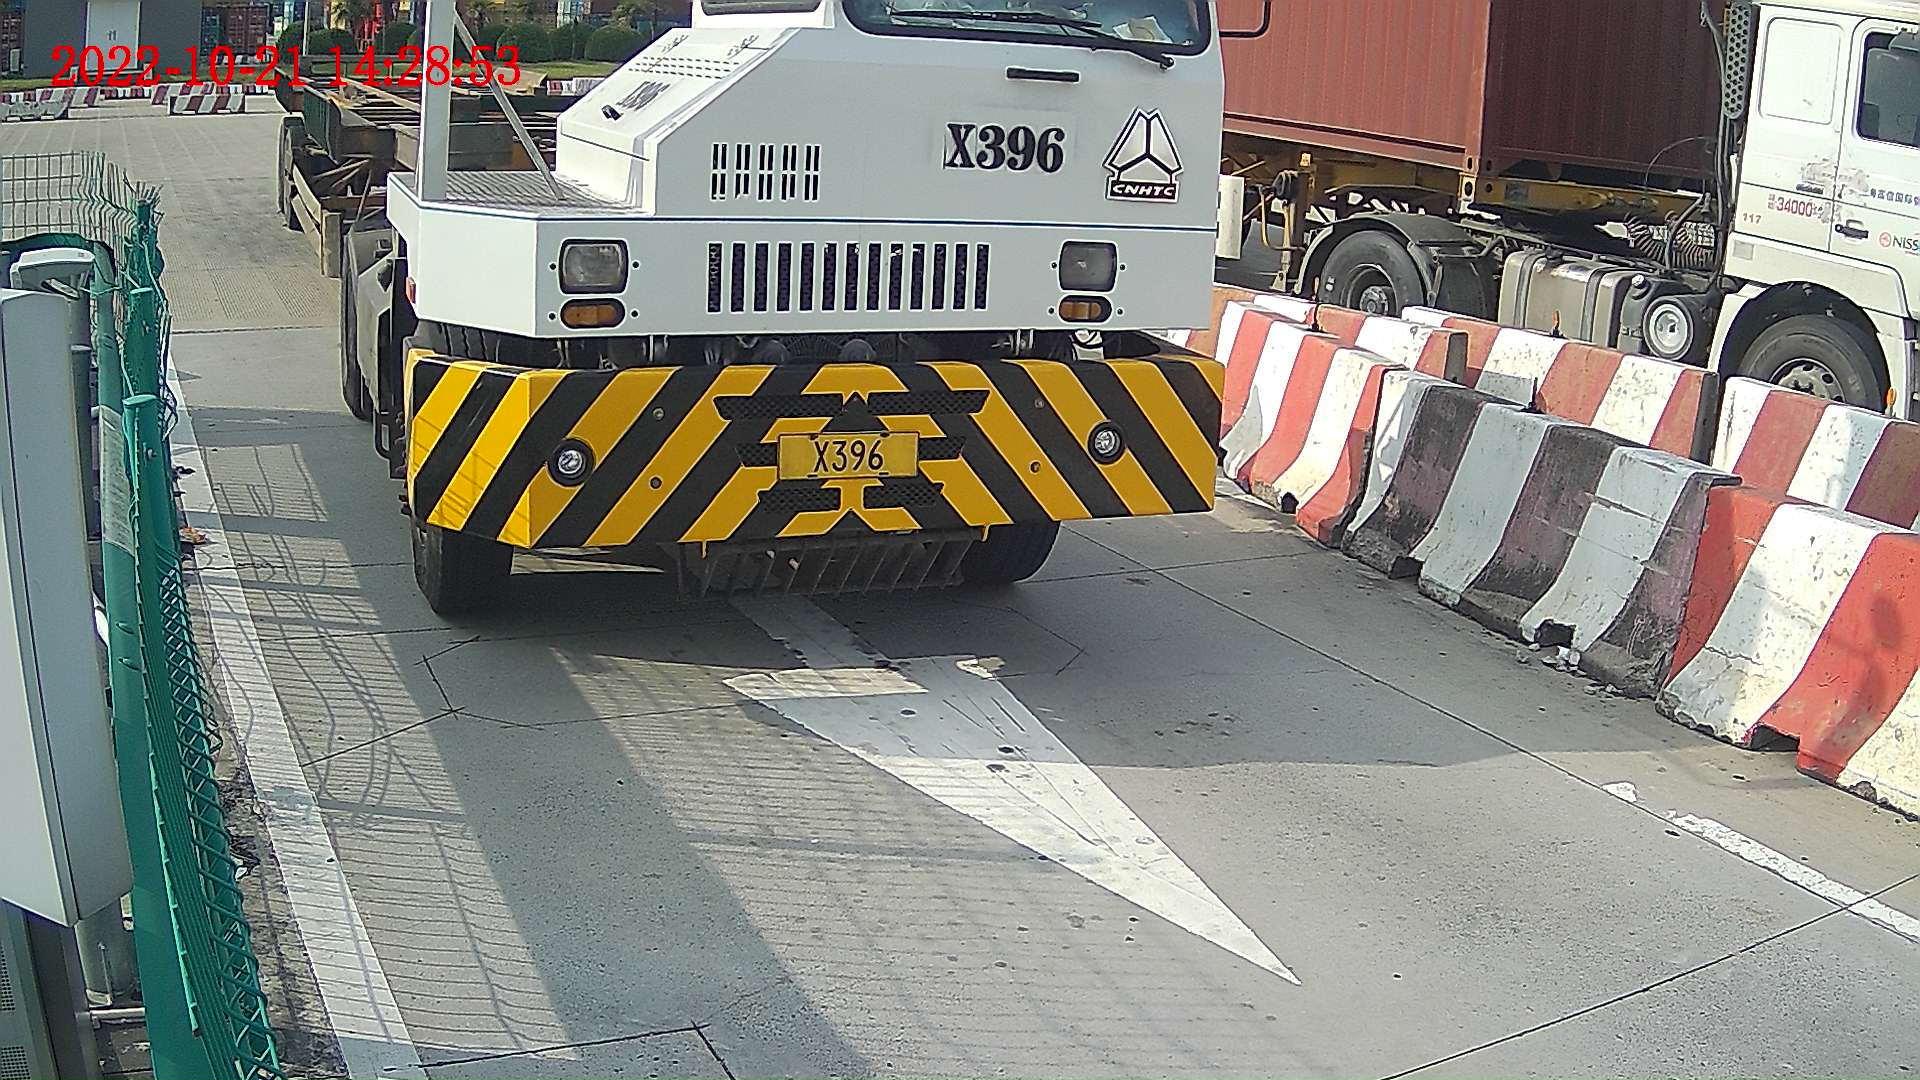head: (387, 1, 1230, 630)
plate: (771, 438, 917, 476)
